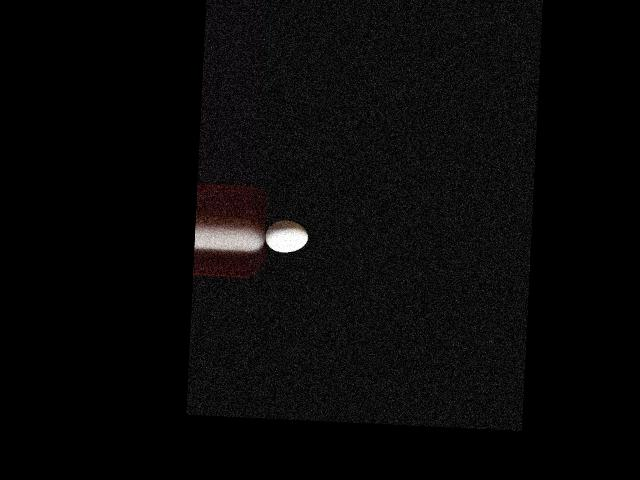egg: (264, 220, 308, 253)
